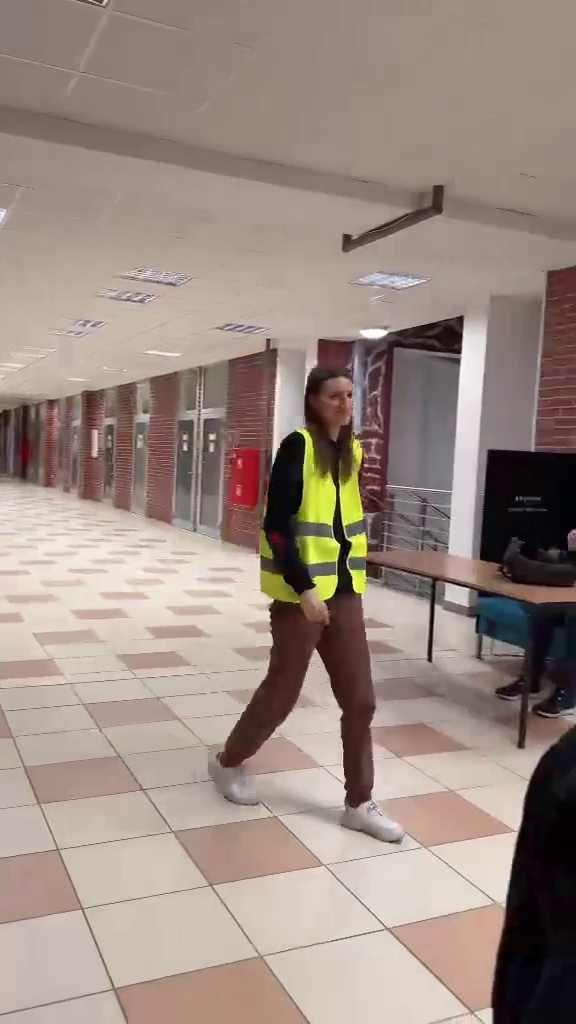vest: (234, 365, 404, 840)
